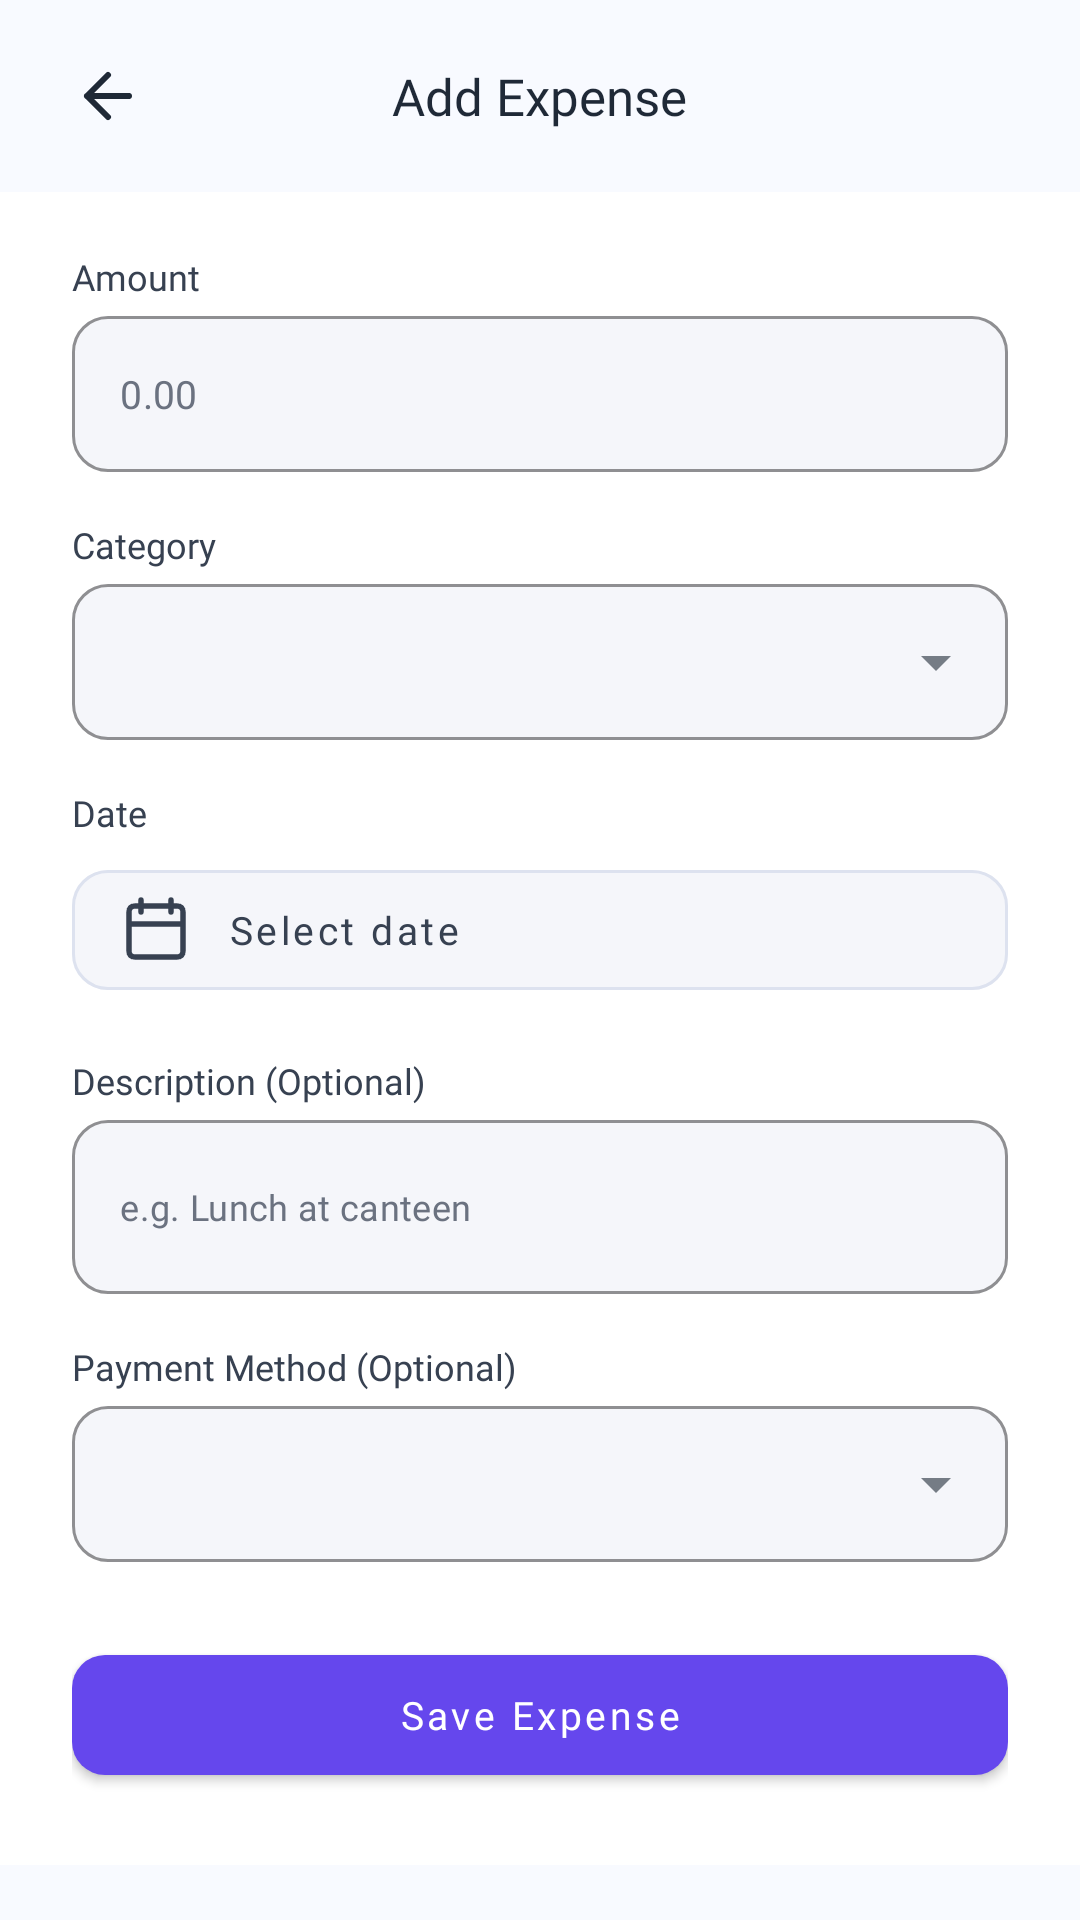

Icons on this 1080*1920 Android screen, each with the point to tap as [x,y]:
Back: [108,96]
